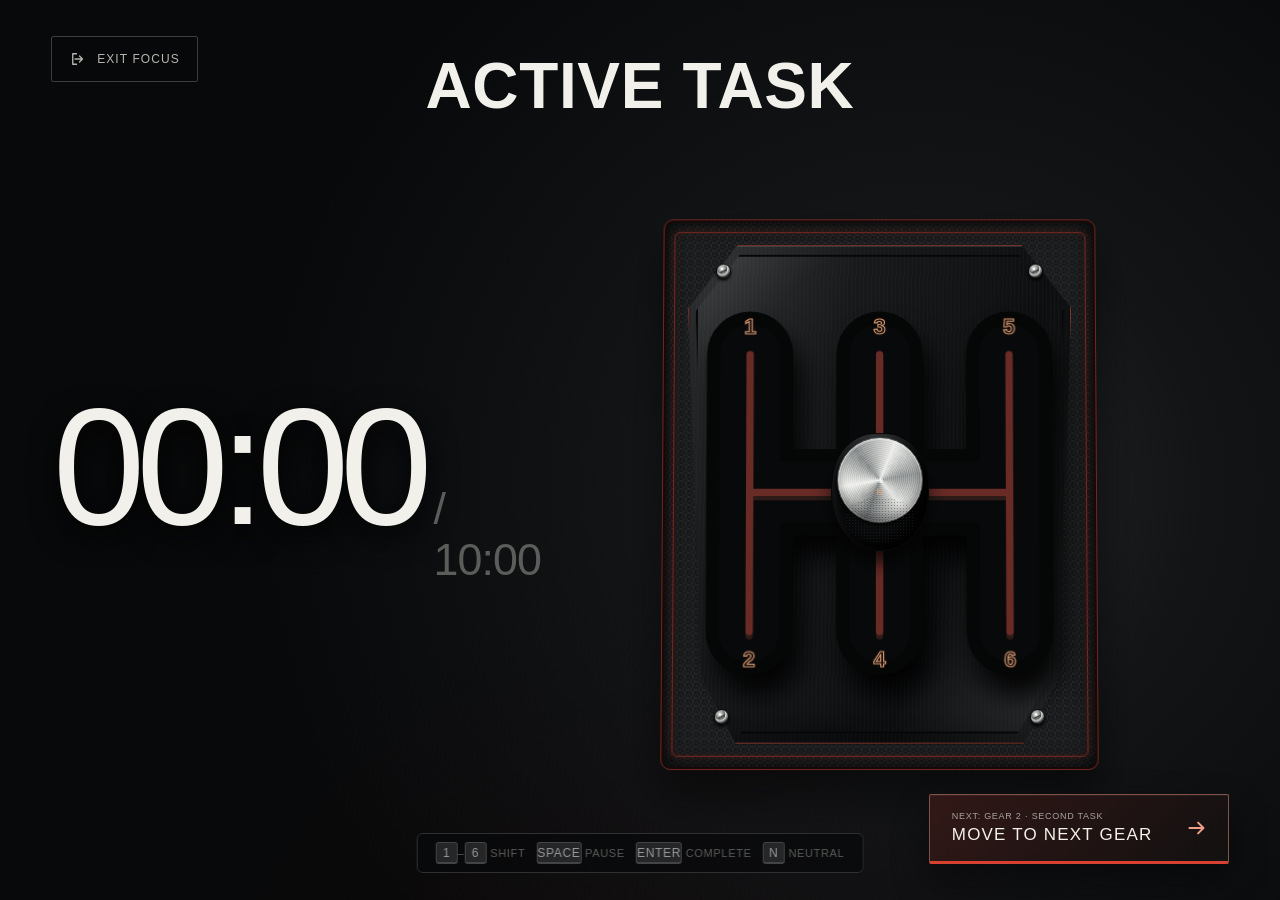
Test: MVP task and gearbox flow › exits focus mode and returns the active task to the queue
The image size is (1280, 900).
What coordinates should you click on to do the following:
click the button "Exit focus"
I would click on:
 (124, 59)
Its box is left=51, top=36, right=198, bottom=82.
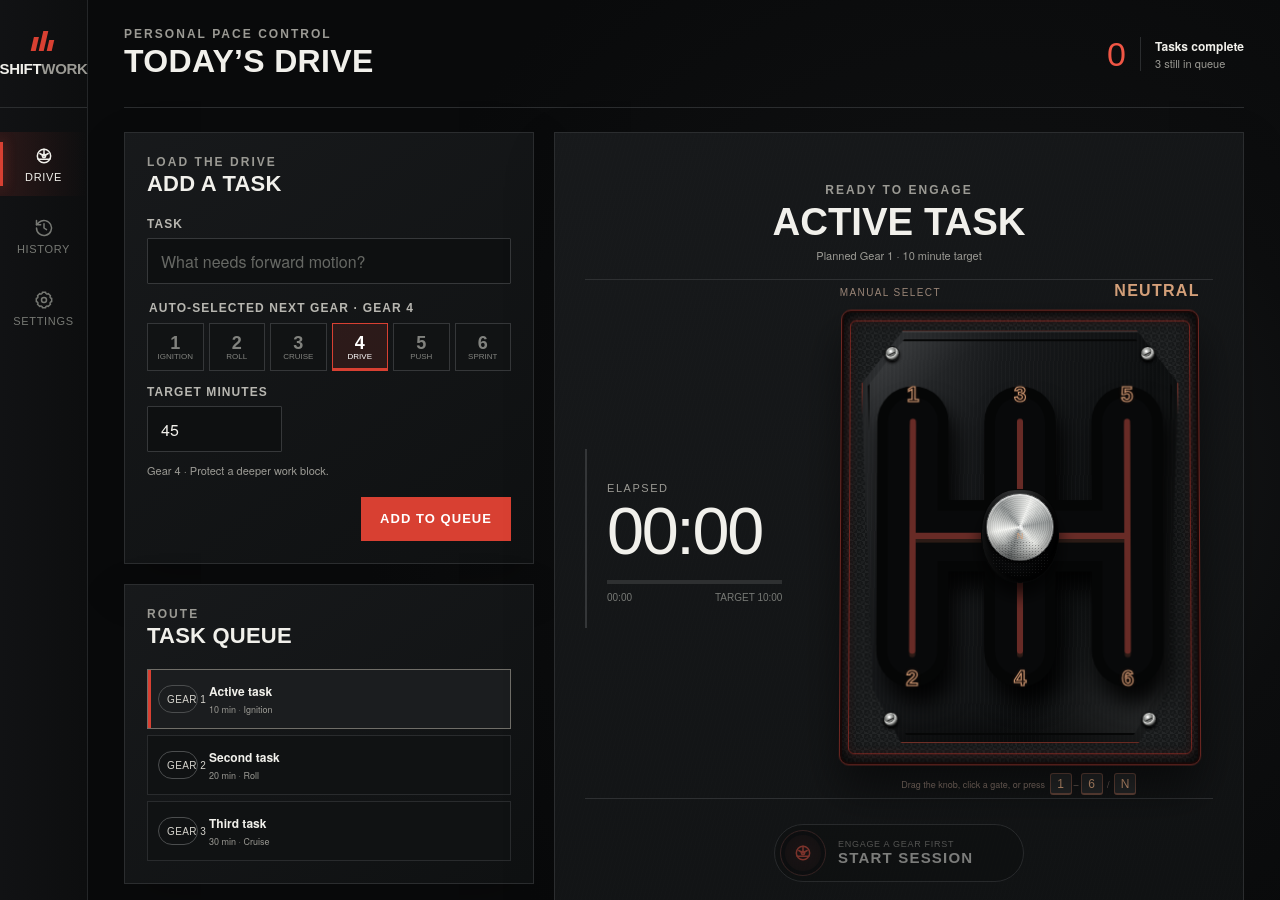
Result: the element named "Primary navigation" is shown at left=0, top=0, right=88, bottom=899
Result: the button named "Gear 1Active task" is shown at left=148, top=670, right=382, bottom=728
